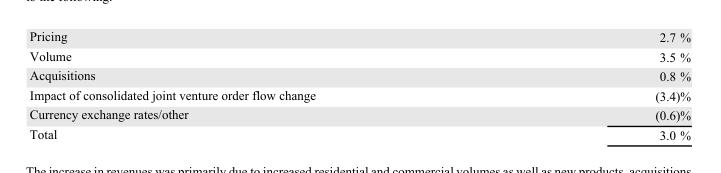table: (28, 28, 690, 141)
table column: (28, 28, 484, 141), (484, 28, 690, 141)
table row: (28, 65, 690, 85), (28, 104, 690, 124), (28, 46, 690, 65), (28, 85, 690, 104), (28, 28, 690, 46), (28, 124, 690, 141)
